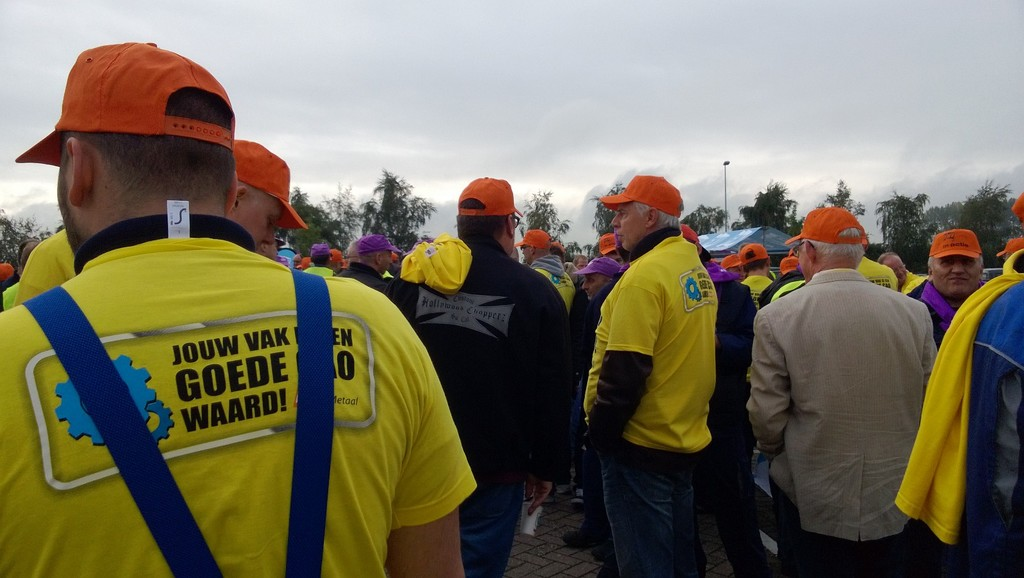person: (1, 225, 74, 312)
